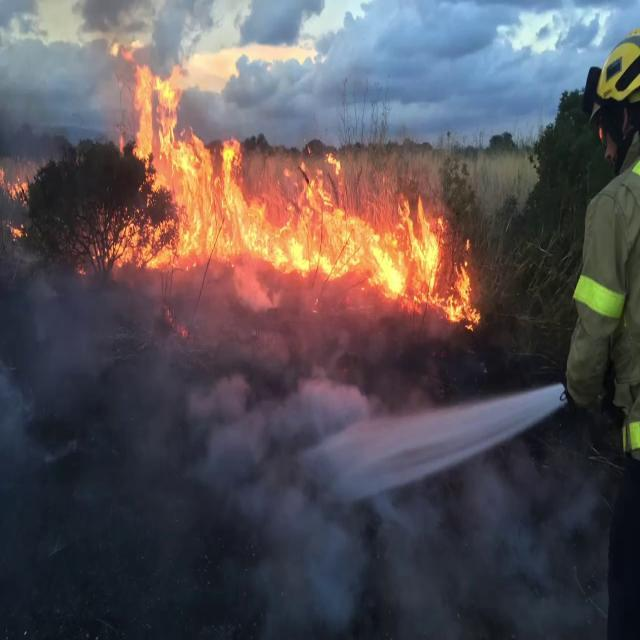Fire: (98, 36, 476, 314), (0, 159, 32, 231)
